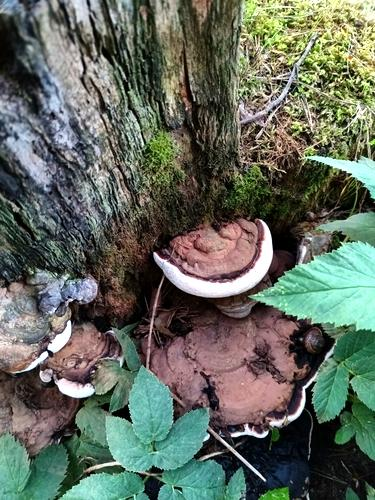Ganoderma - Fruit Body: (151, 321, 337, 439), (150, 216, 274, 297), (0, 273, 72, 371), (75, 327, 128, 402)
